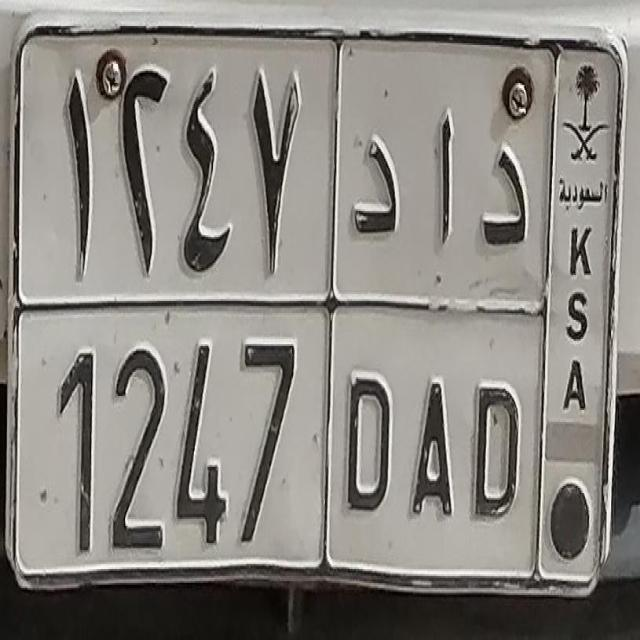license_plate: (14, 14, 626, 605)
